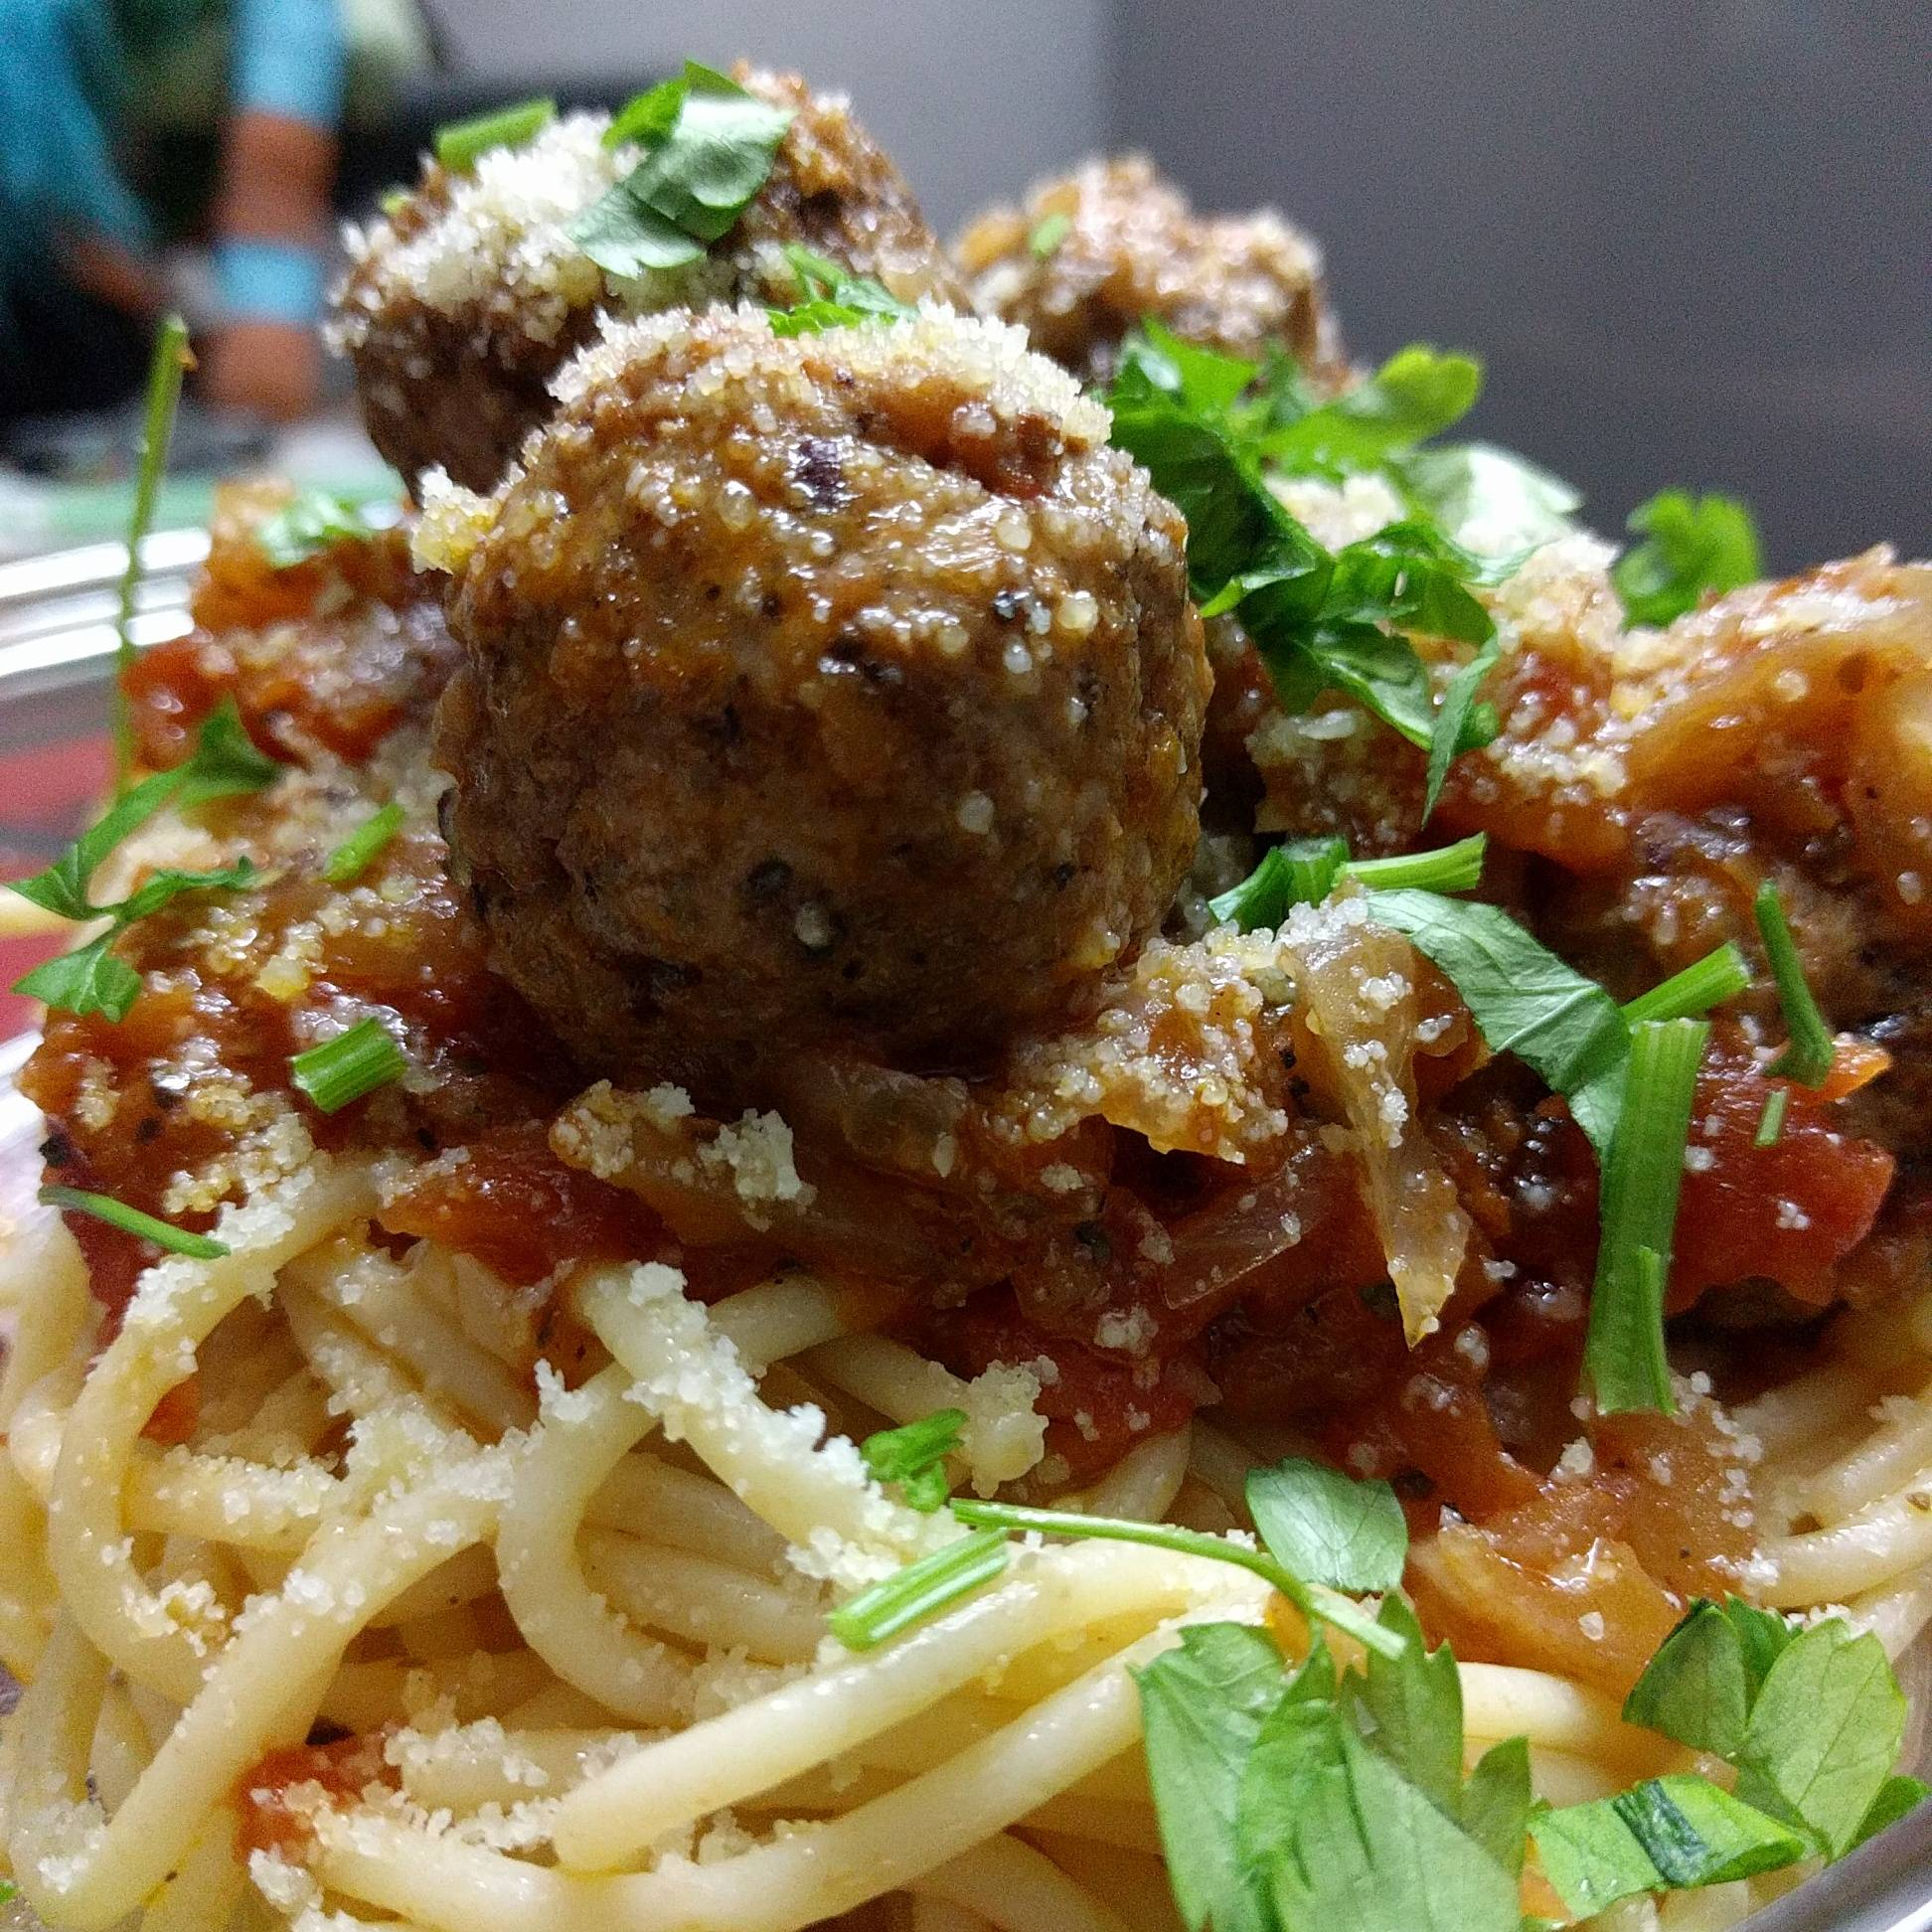meatballs: (467, 349, 1189, 1067), (352, 81, 948, 469)
plain spaghetti: (2, 1205, 1930, 1932)
